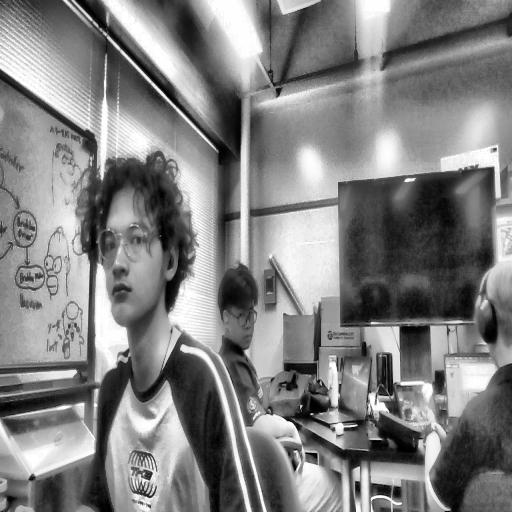Daifuku: (76, 149, 195, 325)
Not Daifuku: (476, 262, 512, 379), (215, 266, 257, 358)
